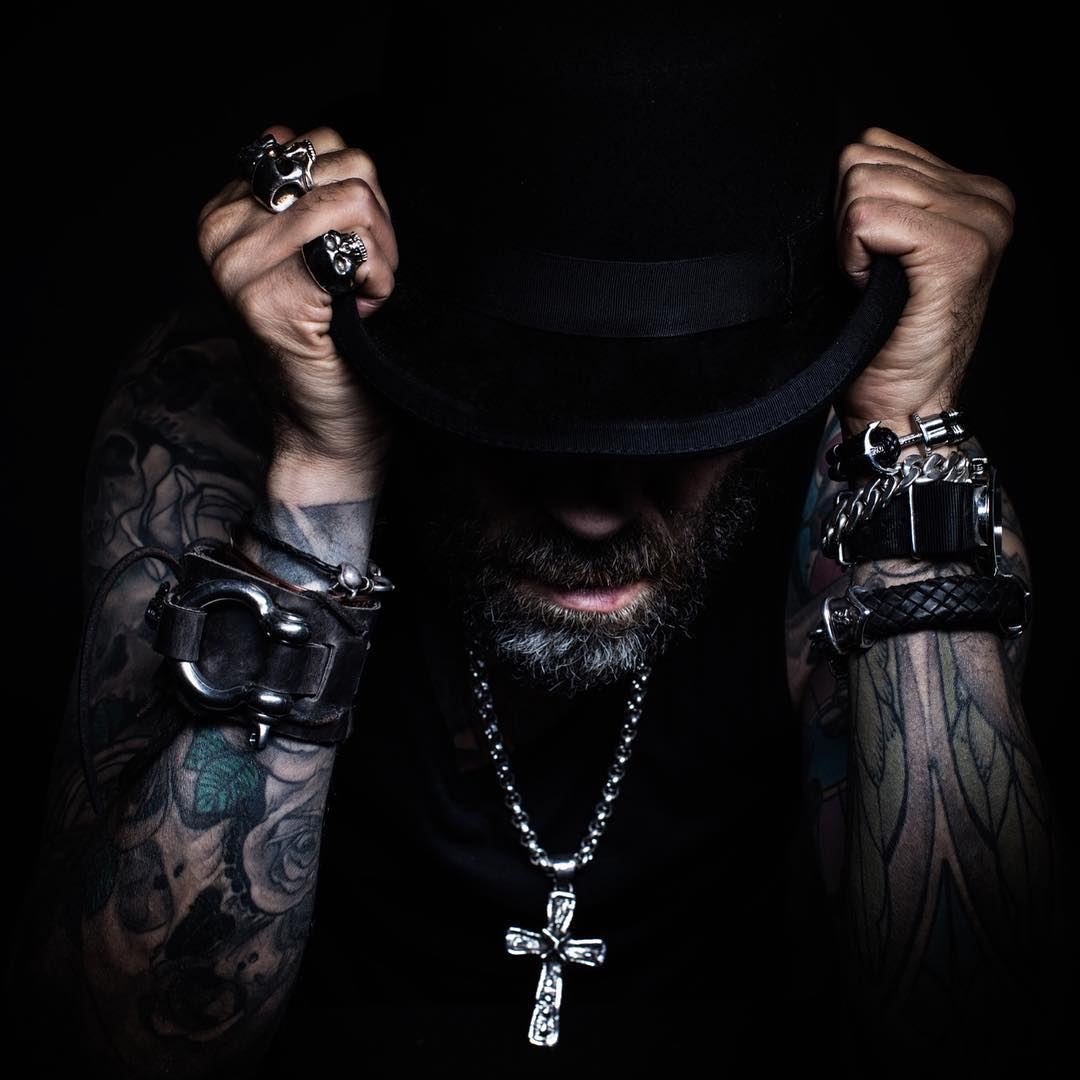hand: (198, 133, 371, 420)
